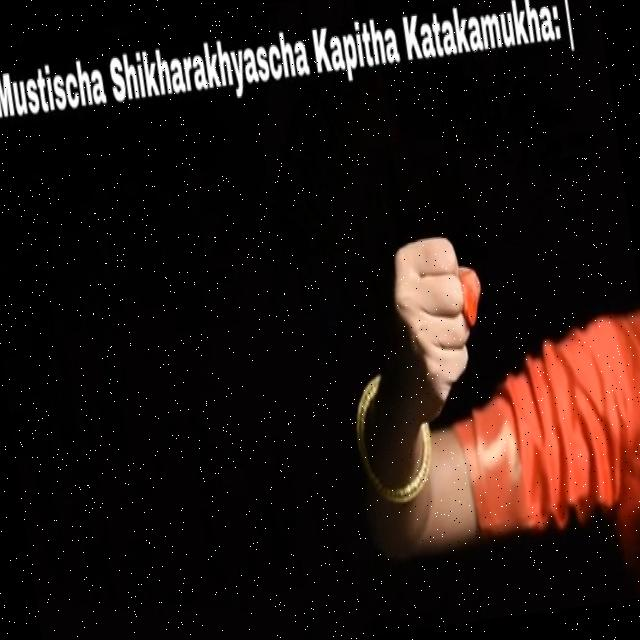Mushti: (375, 215, 500, 416)
bangle: (341, 387, 447, 528)
text: (0, 0, 583, 139)
